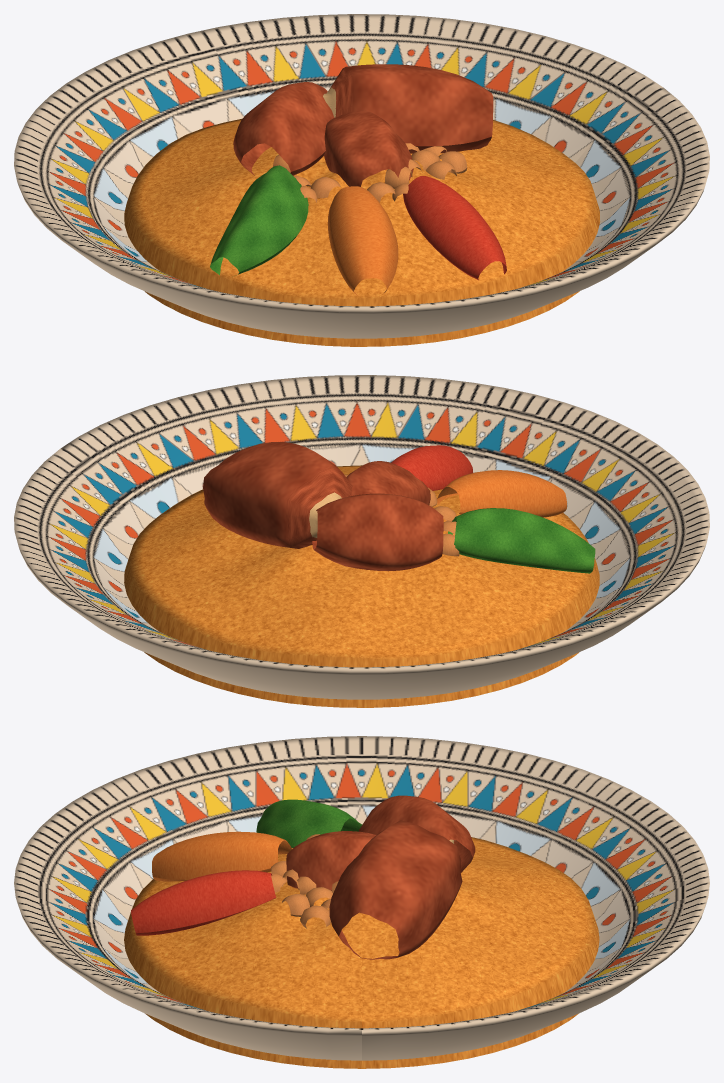
Rendered from Couscous_Plat_070pct.obj.
3 views of the same model, one above another, from view 1: azimuth 30°, elevation 25°; view 2: azimuth 150°, elevation 25°; view 3: azimuth 270°, elevation 25° (orthographic).
Parts seen in each view (by area): view 1: 00_Plate_Tebsi_Ceramic, 01_Couscous_Semolina_Mound, 02_Meat_Lamb_Shank_Main, 03_Meat_Braised_Left, 06_Veg_Green_Pepper_Felfel, 08_Veg_Pumpkin_Red_Front, 07_Veg_Carrot_FrontLeft, 04_Meat_Braised_Front, 05_Chickpeas_Cluster; view 2: 00_Plate_Tebsi_Ceramic, 01_Couscous_Semolina_Mound, 02_Meat_Lamb_Shank_Main, 03_Meat_Braised_Left, 06_Veg_Green_Pepper_Felfel, 07_Veg_Carrot_FrontLeft, 08_Veg_Pumpkin_Red_Front, 04_Meat_Braised_Front, 05_Chickpeas_Cluster; view 3: 00_Plate_Tebsi_Ceramic, 01_Couscous_Semolina_Mound, 02_Meat_Lamb_Shank_Main, 08_Veg_Pumpkin_Red_Front, 07_Veg_Carrot_FrontLeft, 04_Meat_Braised_Front, 03_Meat_Braised_Left, 06_Veg_Green_Pepper_Felfel, 05_Chickpeas_Cluster.
Part boxes in pixels (x1,y1,x2,y2): 00_Plate_Tebsi_Ceramic: (14, 14, 709, 338); 01_Couscous_Semolina_Mound: (124, 118, 600, 346); 02_Meat_Lamb_Shank_Main: (323, 64, 493, 153); 03_Meat_Braised_Left: (233, 82, 334, 175); 06_Veg_Green_Pepper_Felfel: (210, 165, 308, 275); 08_Veg_Pumpkin_Red_Front: (403, 176, 506, 280); 07_Veg_Carrot_FrontLeft: (327, 186, 398, 295); 04_Meat_Braised_Front: (324, 110, 413, 186); 05_Chickpeas_Cluster: (273, 143, 467, 202); 00_Plate_Tebsi_Ceramic: (14, 375, 709, 699); 01_Couscous_Semolina_Mound: (124, 465, 599, 707); 02_Meat_Lamb_Shank_Main: (203, 442, 352, 548); 03_Meat_Braised_Left: (312, 493, 443, 571); 06_Veg_Green_Pepper_Felfel: (448, 508, 595, 573); 07_Veg_Carrot_FrontLeft: (437, 470, 566, 517); 08_Veg_Pumpkin_Red_Front: (391, 445, 473, 490); 04_Meat_Braised_Front: (346, 461, 430, 505); 05_Chickpeas_Cluster: (344, 474, 459, 556); 00_Plate_Tebsi_Ceramic: (14, 736, 709, 1060); 01_Couscous_Semolina_Mound: (124, 837, 599, 1068); 02_Meat_Lamb_Shank_Main: (329, 820, 462, 959); 08_Veg_Pumpkin_Red_Front: (131, 870, 276, 935); 07_Veg_Carrot_FrontLeft: (152, 831, 291, 881); 04_Meat_Braised_Front: (286, 831, 376, 890); 03_Meat_Braised_Left: (358, 795, 475, 872); 06_Veg_Green_Pepper_Felfel: (256, 799, 362, 847); 05_Chickpeas_Cluster: (271, 834, 338, 928).
Size of the model in its own units: 0.32 by 0.0873 by 0.32.
Materials: 1 (1 with a texture image).
